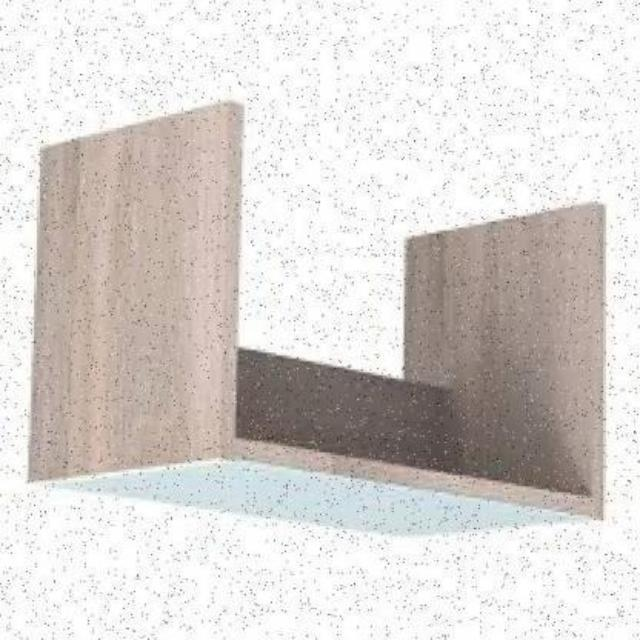table: (31, 101, 640, 540)
